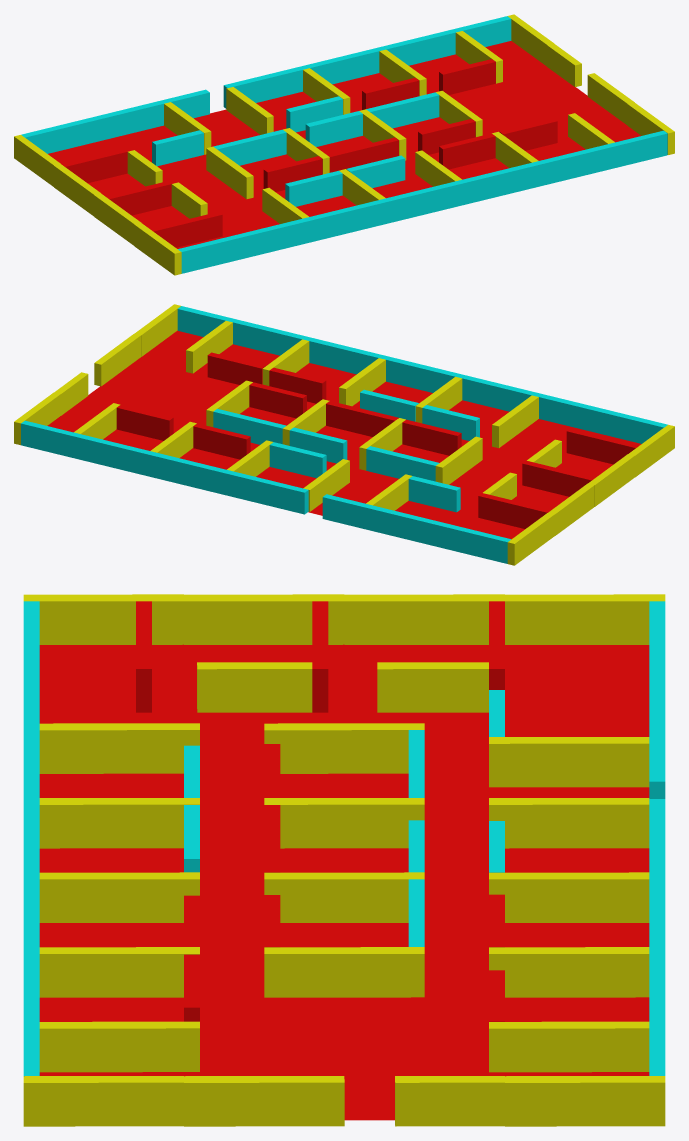
Rendered from Building_3.fbx.
3 views of the same model, one above another, from view 1: azimuth 30°, elevation 25°; view 2: azimuth 150°, elevation 25°; view 3: azimuth 270°, elevation 25° (orthographic). The views are drawn at different scales.
Parts seen in each view (by area): view 1: group84_pasted__wall_5; view 2: group84_pasted__wall_5; view 3: group84_pasted__wall_5.
Boxes of the visible parts, x1=… form: group84_pasted__wall_5: x1=14, y1=14, x2=674, y2=275; group84_pasted__wall_5: x1=14, y1=304, x2=674, y2=565; group84_pasted__wall_5: x1=23, y1=594, x2=665, y2=1126.
Bounding box in the file's own units: 72.04 × 3 × 40.
